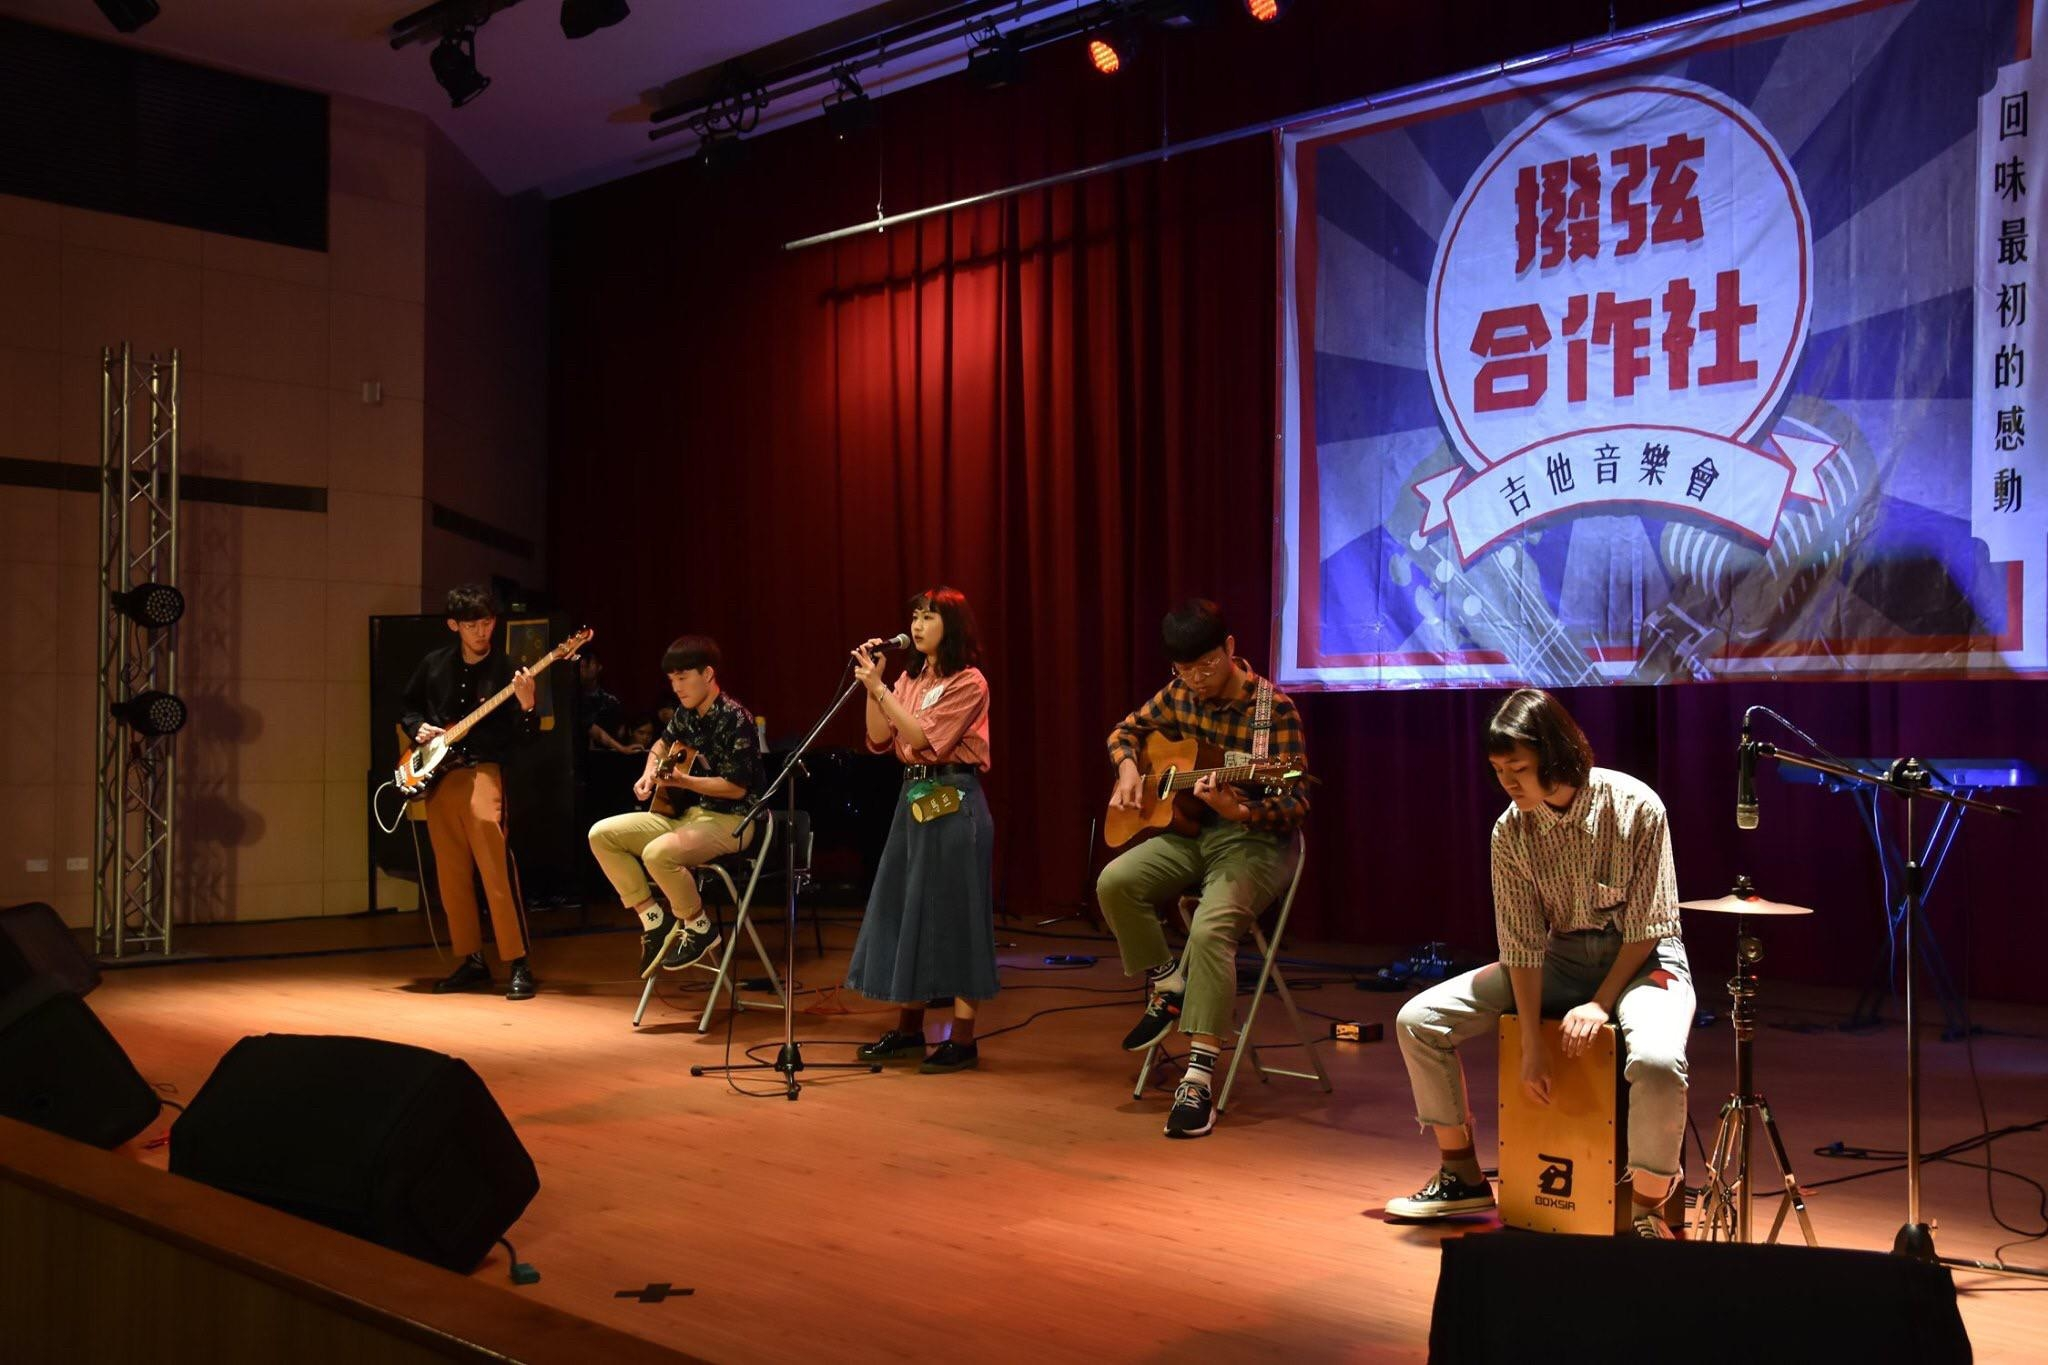people: (1475, 686, 1690, 1201), (1122, 622, 1249, 1119), (866, 592, 984, 1066), (404, 589, 531, 1004), (631, 633, 734, 933)
